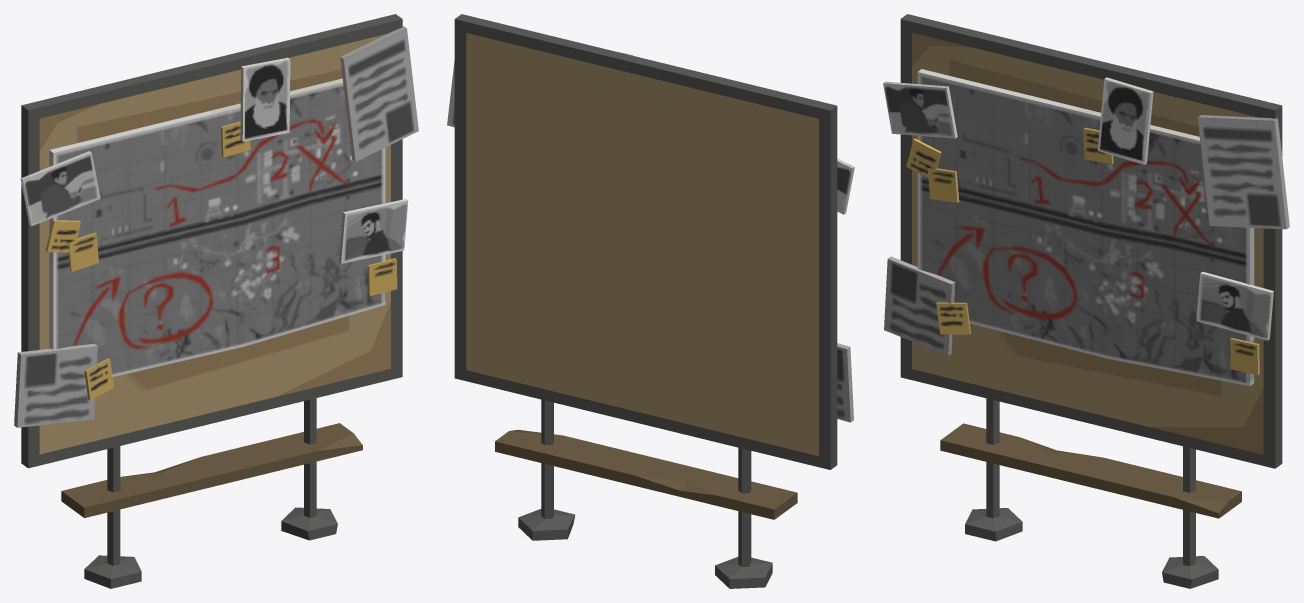
The model's file is SM_Prop_Briefing_Board_01.fbx.
The picture shows the model from 3 angles, left to right: view 1: azimuth 30°, elevation 25°; view 2: azimuth 150°, elevation 25°; view 3: azimuth 330°, elevation 25°; orthographic projection.
Visible parts, largest first — view 1: SM_Prop_Briefing_Board_01; view 2: SM_Prop_Briefing_Board_01; view 3: SM_Prop_Briefing_Board_01.
Boxes of the visible parts, left/top/right/bottom form: SM_Prop_Briefing_Board_01: left=14, top=14, right=418, bottom=588; SM_Prop_Briefing_Board_01: left=447, top=14, right=854, bottom=588; SM_Prop_Briefing_Board_01: left=883, top=14, right=1289, bottom=588.
Size of the model in its own units: 182 by 212 by 23.16.
